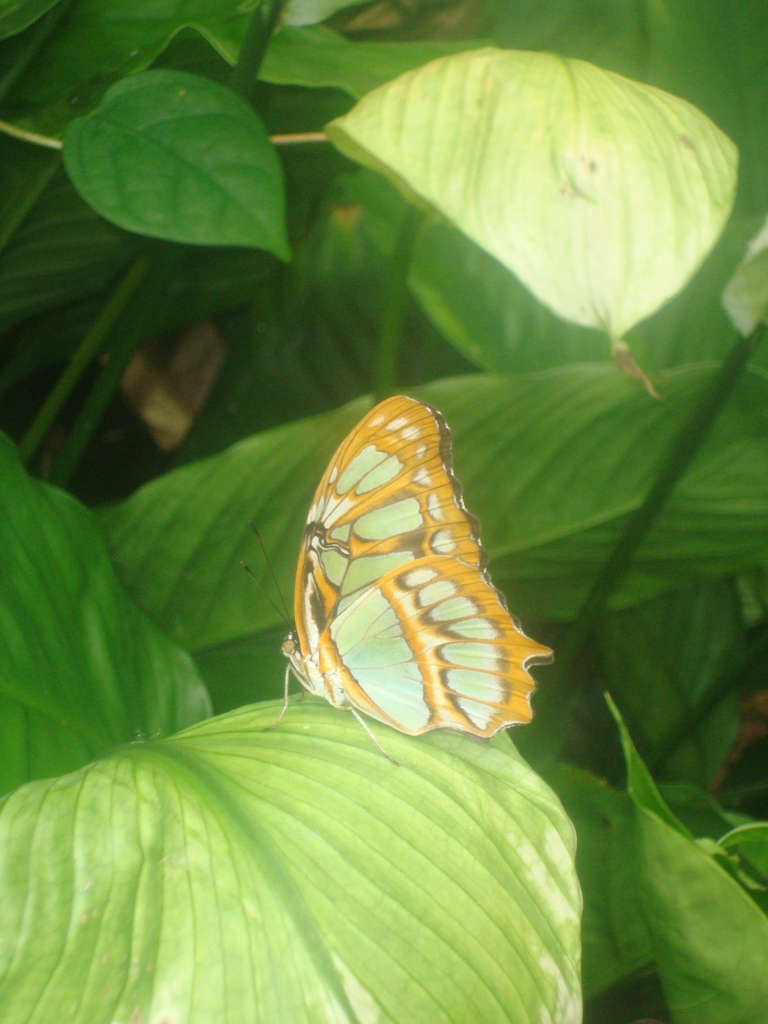Butterfly: (254, 376, 580, 779)
